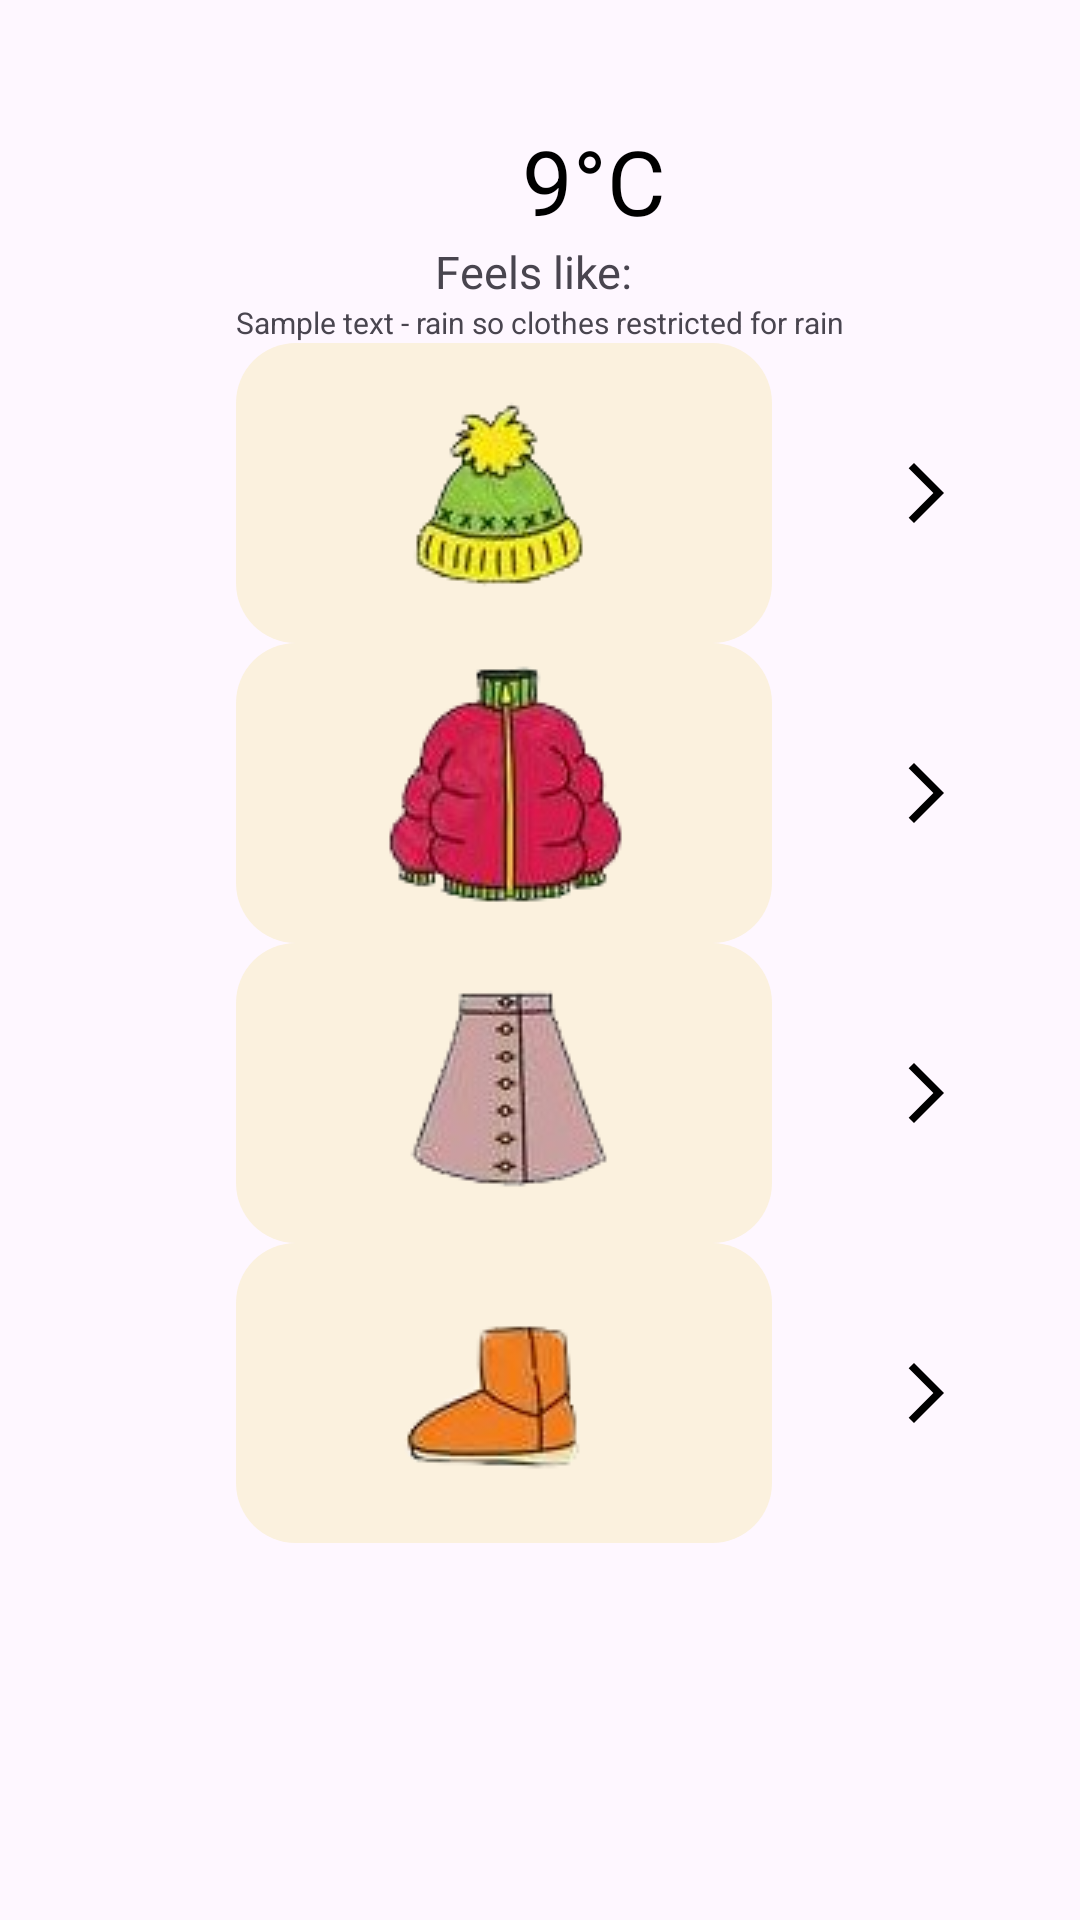

Named icons in this screenshot (1080x1920) and their bounding boxes, (x1, y1, x2, y2):
arrow right: (909, 463, 944, 523), (909, 763, 944, 823), (909, 1063, 944, 1123), (909, 1363, 944, 1423)
